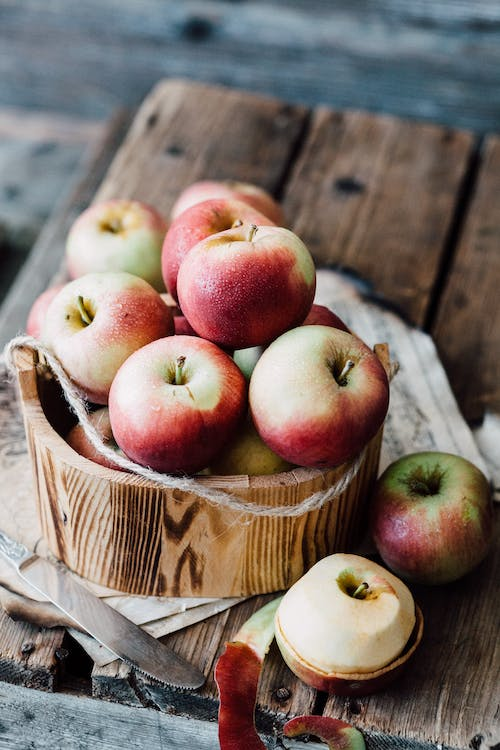knife: (0, 512, 211, 695)
